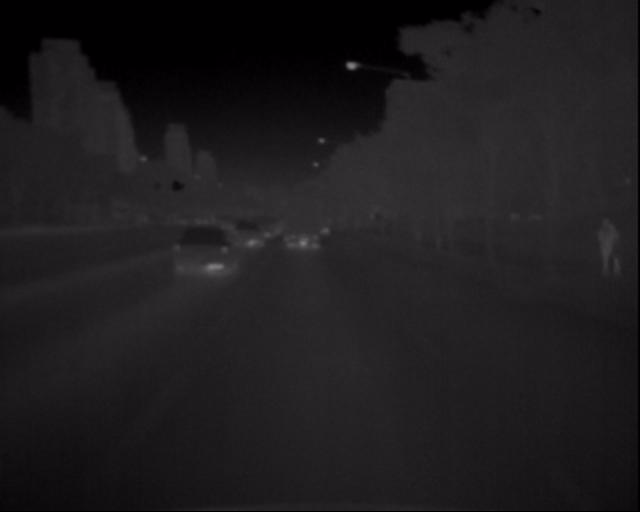person: (598, 212, 626, 278)
